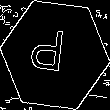P_S: (35, 27, 75, 83)
